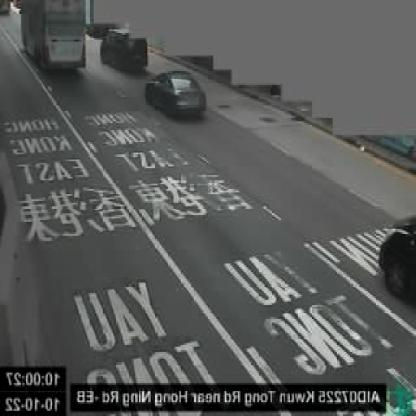Bus: (18, 1, 85, 72)
Car: (146, 70, 206, 122), (100, 28, 146, 72)
